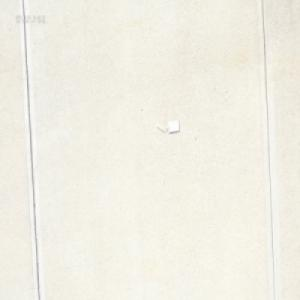LuggageTag: (155, 118, 179, 135)
